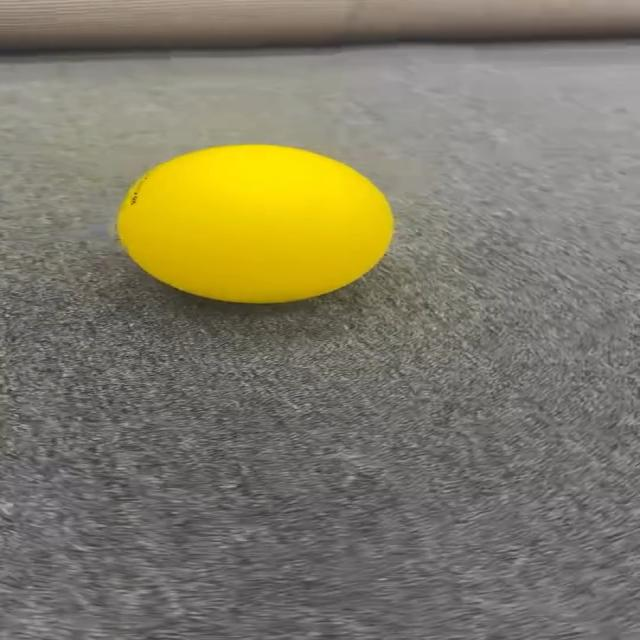Fuels: (118, 146, 391, 302)
